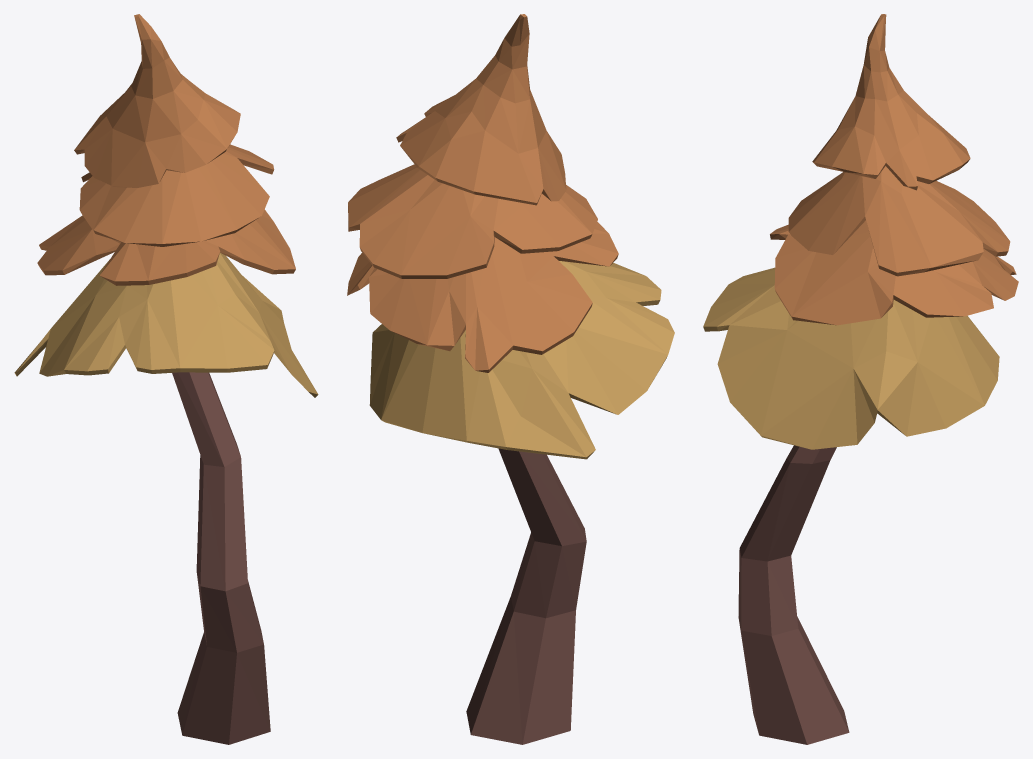
Rendered from PineTree_Autumn_4.lod1.glb.
3 views of the same model, side by side, from view 1: azimuth 30°, elevation 25°; view 2: azimuth 150°, elevation 25°; view 3: azimuth 270°, elevation 25° (orthographic). The views are drawn at different scales.
Parts seen in each view (by area): view 1: PineTree_Autumn_4; view 2: PineTree_Autumn_4; view 3: PineTree_Autumn_4.
Part boxes in pixels (x1,y1,x2,y2): PineTree_Autumn_4: (14, 14, 318, 744); PineTree_Autumn_4: (347, 14, 674, 744); PineTree_Autumn_4: (703, 14, 1018, 744).
Bounding box in the file's own units: 1.25 × 3.34 × 1.39.
